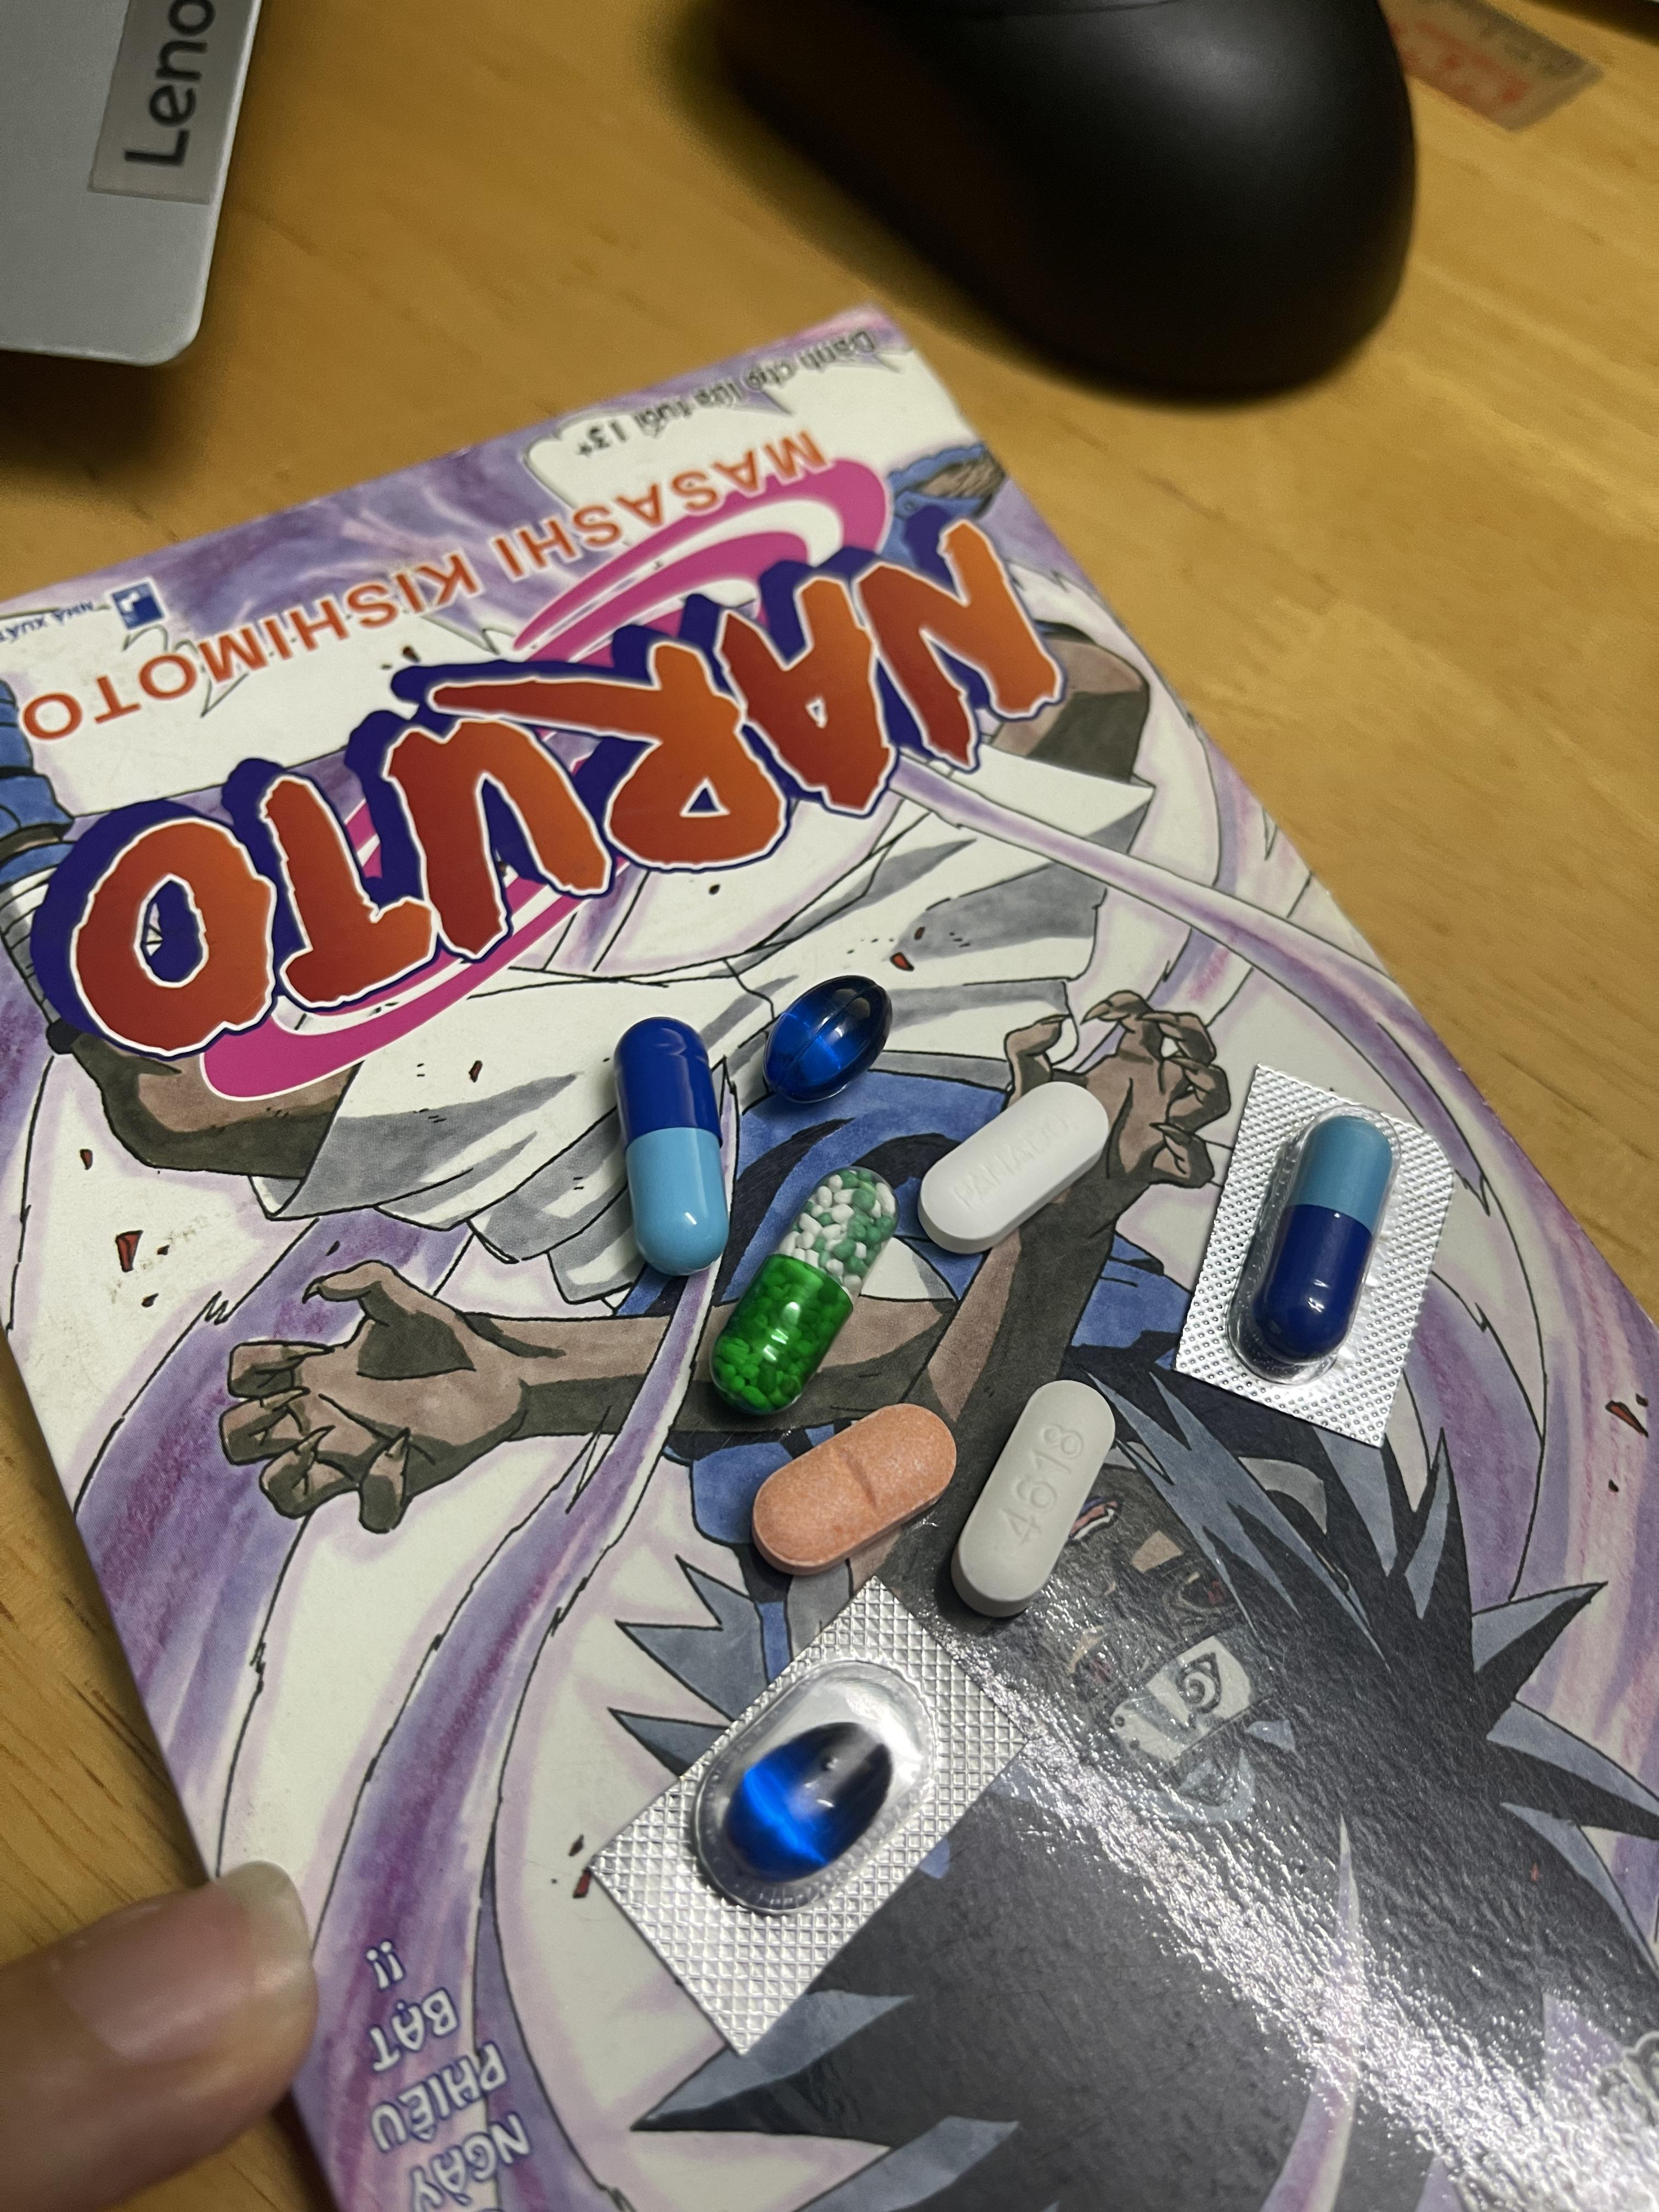Lincomyxin_500mg: (723, 1721, 897, 1888), (765, 972, 896, 1101)
Loratadine_10mg: (751, 1406, 953, 1571)
Paracetamol_350mg: (915, 1080, 1110, 1251)
Paracetamol_500mg: (955, 1379, 1117, 1615)
Paracetamol_650mg: (714, 1165, 901, 1409)
pill: (1249, 1115, 1391, 1364), (617, 1021, 721, 1271)
